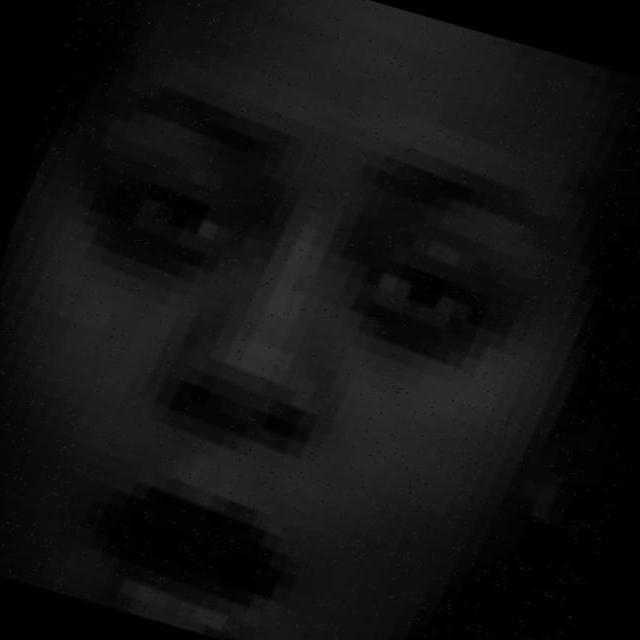Surprised: (52, 79, 580, 640)
